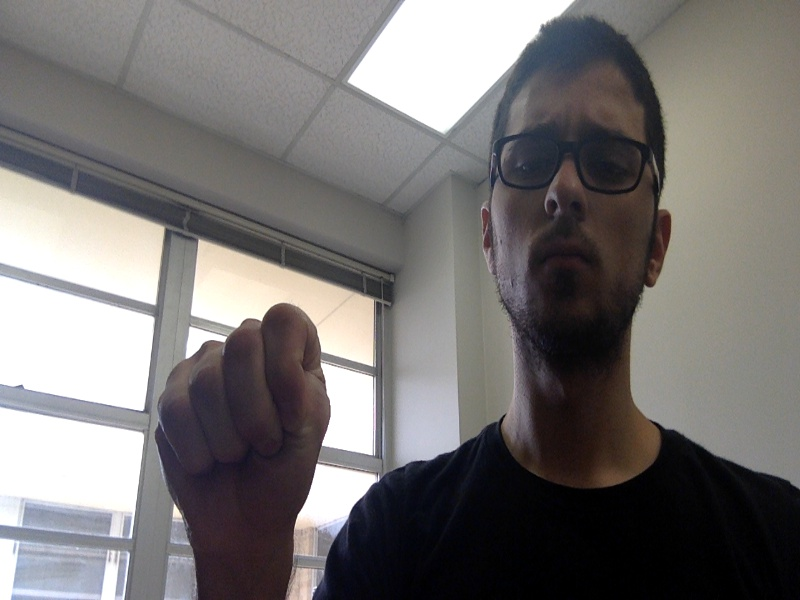0-hand: (155, 304, 331, 523)
